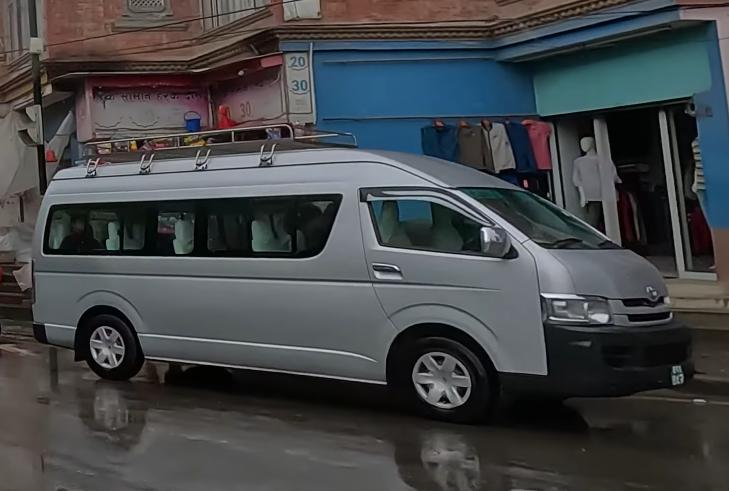micro_bus: (22, 119, 699, 424)
